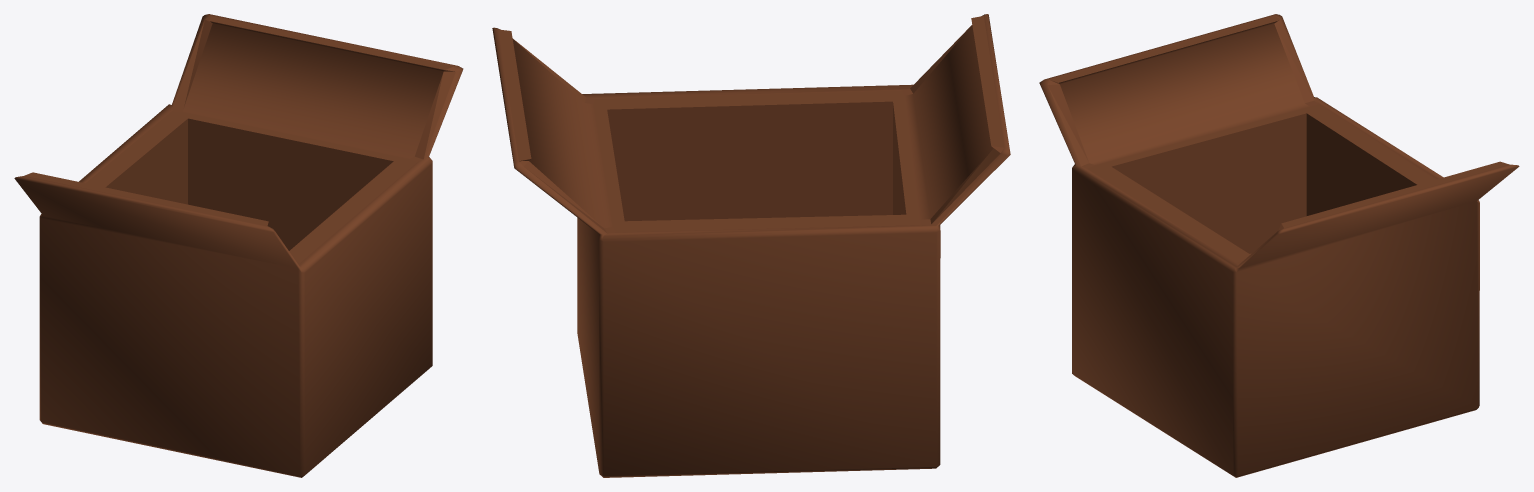
3 views of the same model, side by side, from view 1: azimuth 30°, elevation 25°; view 2: azimuth 150°, elevation 25°; view 3: azimuth 270°, elevation 25° (orthographic). The views are drawn at different scales.
Visible parts, largest first — view 1: cajavacia001; view 2: cajavacia001; view 3: cajavacia001.
Part boxes in pixels (box(x1,y1,x2,y2)): cajavacia001: box(14, 14, 463, 477); cajavacia001: box(492, 14, 1010, 477); cajavacia001: box(1039, 14, 1519, 477).
Bounding box in the file's own units: 8.39 × 4.87 × 7.75.
